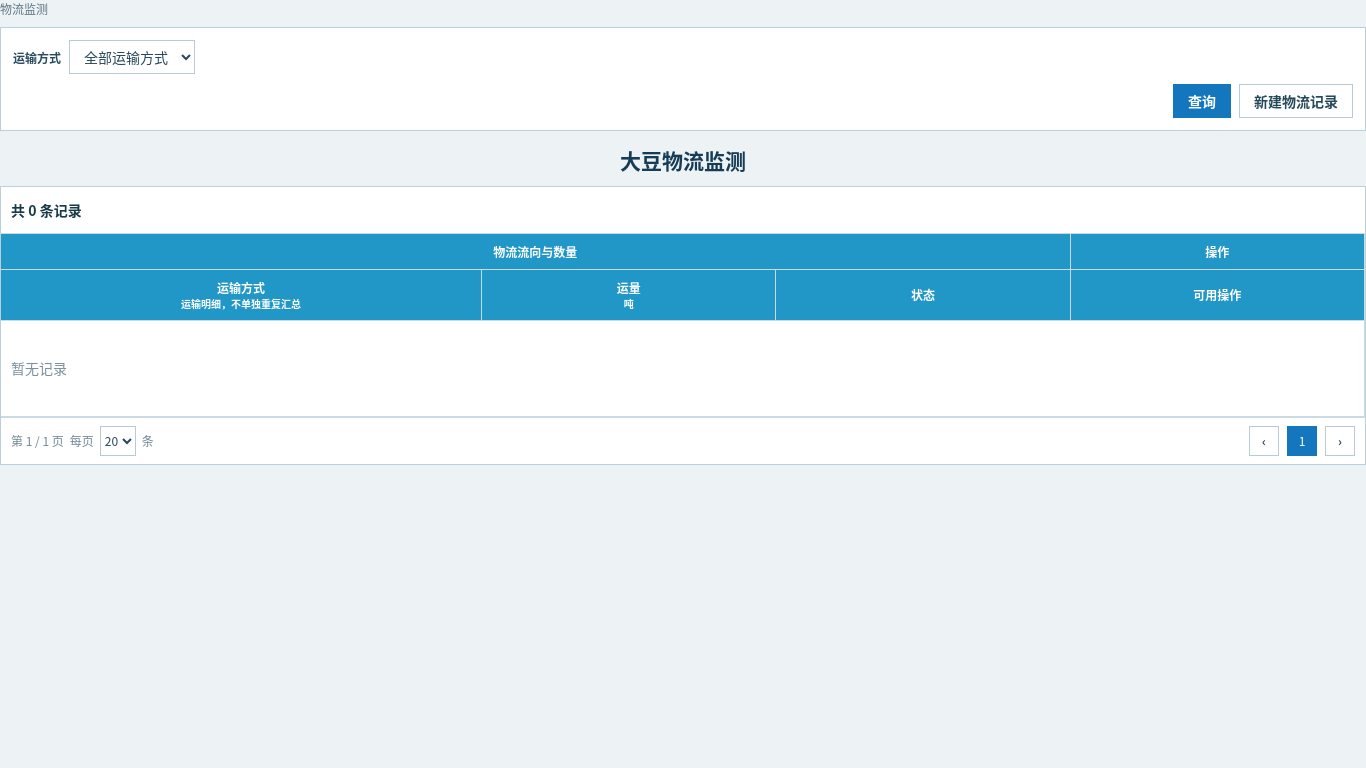
Scenario: LogisticsMonitoringPage › ignores a late field definition after the product context changes
Check: the heading "大豆物流监测" is shown, box [620,145,746,175]
Click the button "新建物流记录".
click(1296, 101)  # box [1239,84,1353,118]
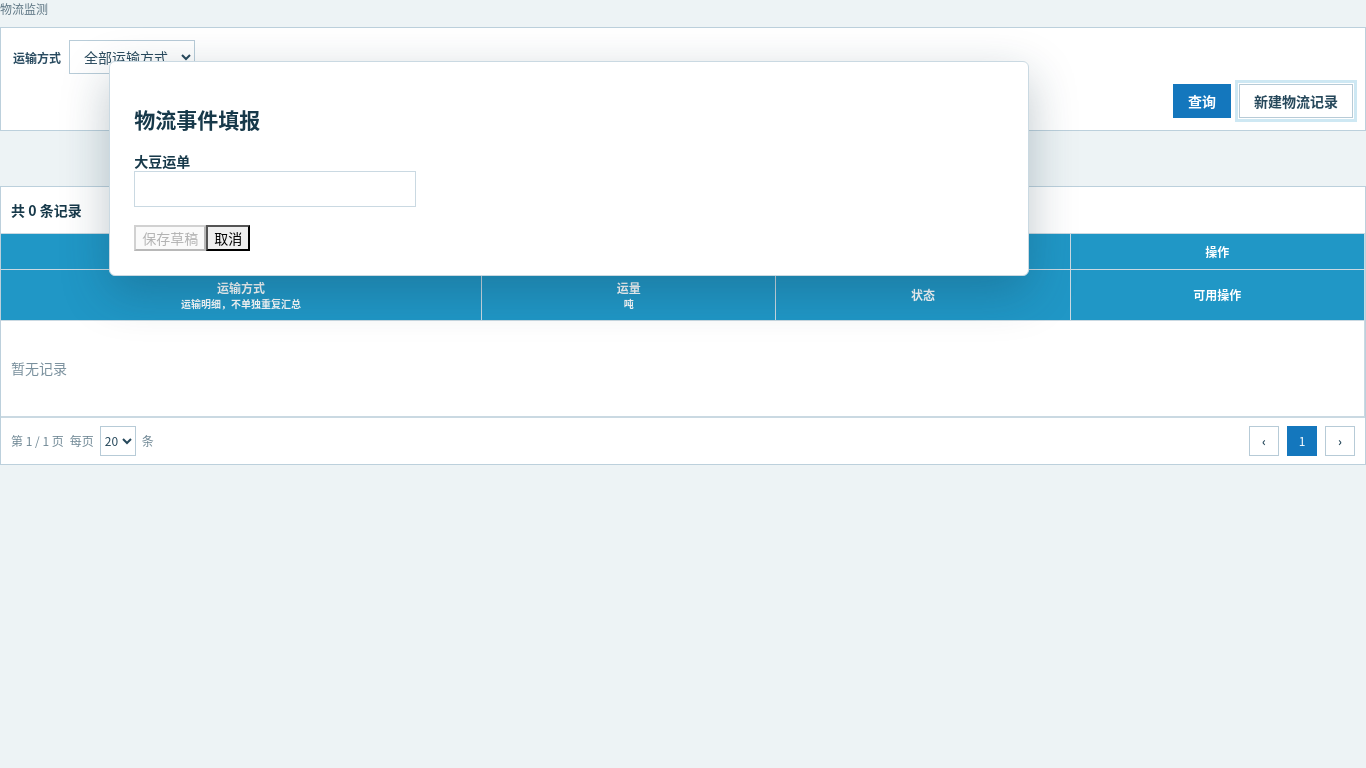
Check: the field labelled "大豆运单" is shown, box [134,171,416,207]
